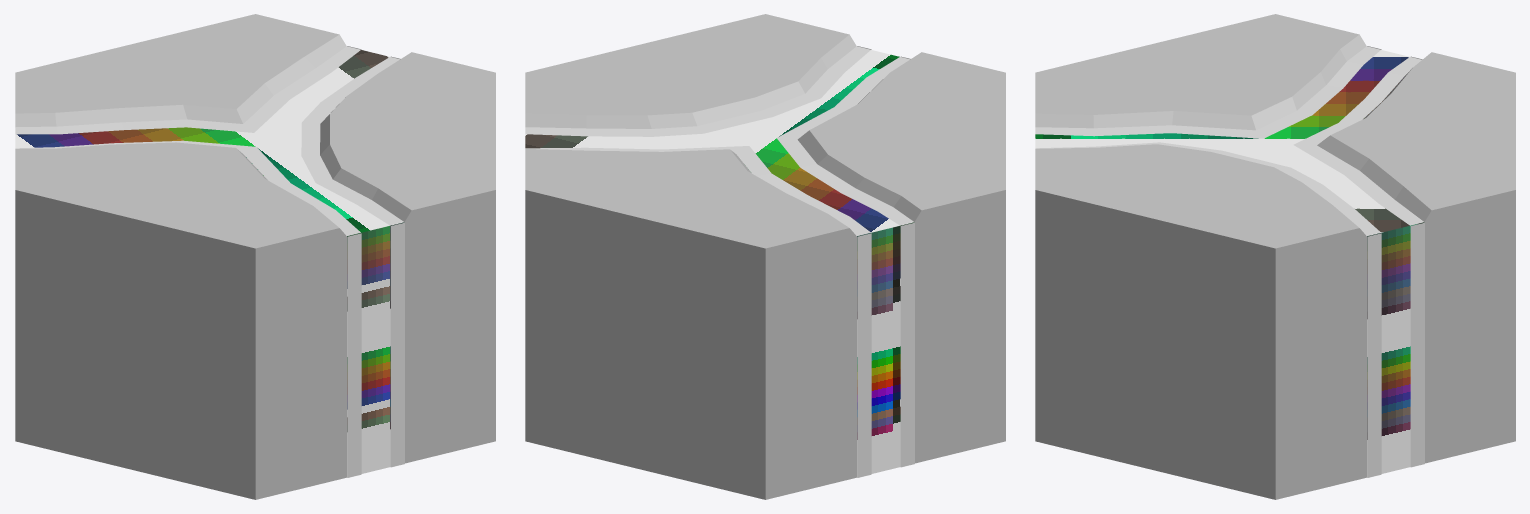
File: Hexagon3_3.fbx
The picture shows the model from 3 angles, left to right: view 1: azimuth 30°, elevation 25°; view 2: azimuth 150°, elevation 25°; view 3: azimuth 270°, elevation 25°; orthographic projection.
Parts seen in each view (by area): view 1: Hex3_3; view 2: Hex3_3; view 3: Hex3_3.
Boxes of the visible parts, x1,y1,x2,y2 form: Hex3_3: (15, 14, 495, 499); Hex3_3: (525, 14, 1005, 499); Hex3_3: (1035, 14, 1515, 499).
Size of the model in its own units: 1000 by 500 by 868.
